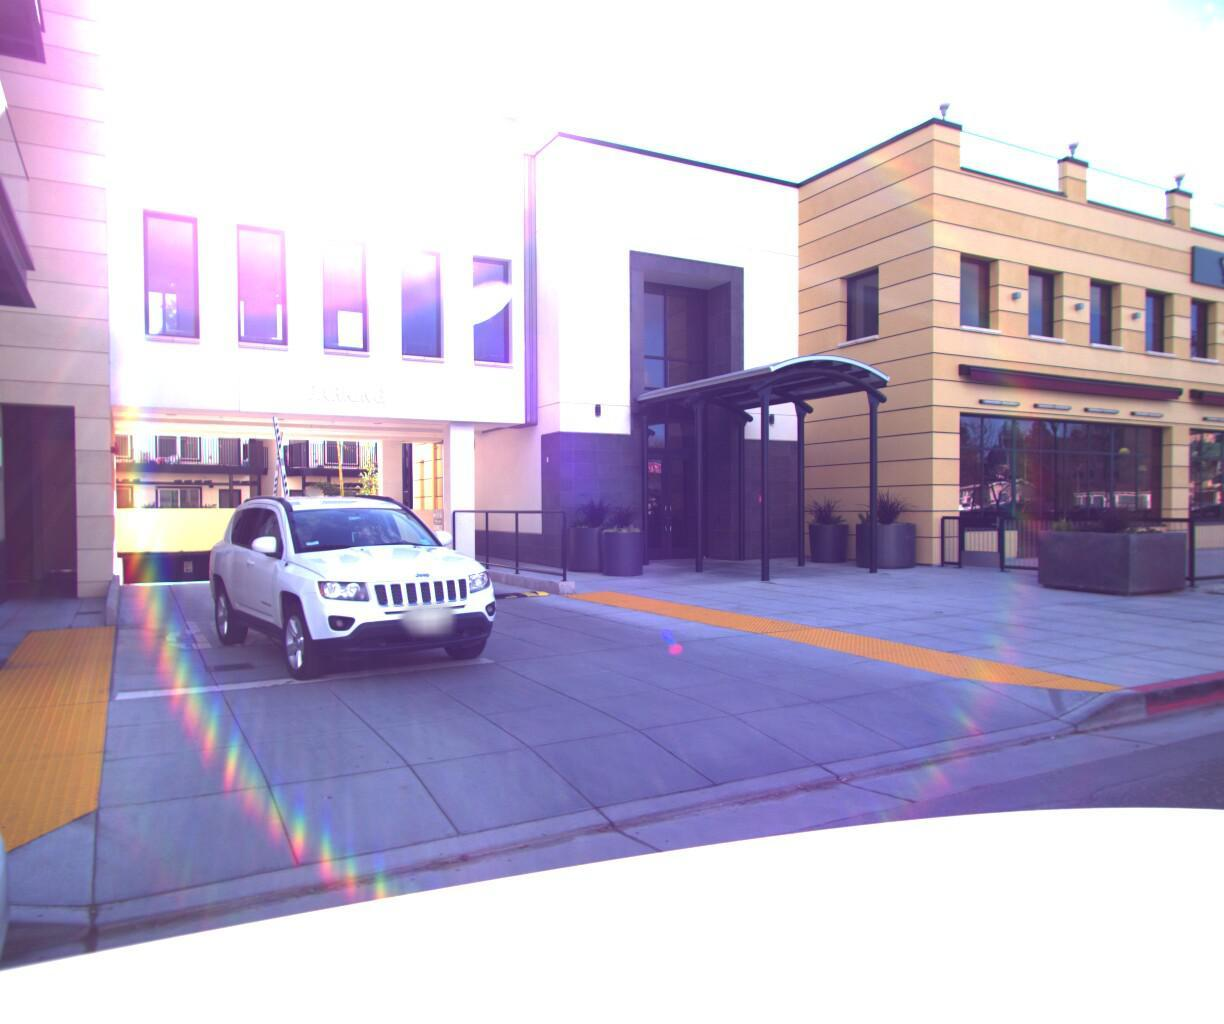car: (201, 487, 524, 698)
